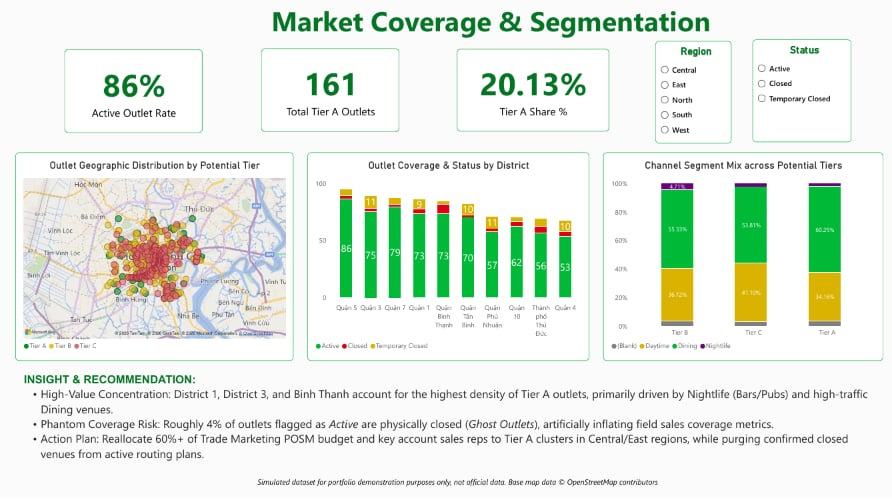

This screenshot's page, from the dashboard's own definition file:
{"tool":"powerbi","page":{"name":"Market Coverage & Segmentation","canvas":[1920,1080],"ordinal":1},"visuals":[{"type":"textbox","box":[551.1,16.7,999.7,85.9],"z":0},{"type":"cardVisual","fields":{"Data":["_Measures.Tier A Share %"]},"box":[977.5,117.5,327.5,177.5],"z":1000},{"type":"map","title":"Outlet Geographic Distribution by Potential Tier","fields":{"Series":["Outlets.Potential_Tier"],"X":["Outlets.Longitude"],"Y":["Outlets.Latitude"]},"box":[31.7,340,596.7,446.7],"z":2000},{"type":"columnChart","title":"Outlet Coverage & Status by District","fields":{"Category":["Dim_District.District_Standard"],"Series":["Outlets.Status"],"Y":["_Measures.1. Total Outlets"]},"box":[658.3,340,603.3,446.7],"z":3000},{"type":"textbox","box":[551.4,1035.7,1110,35],"z":4000},{"type":"textbox","box":[50,813.3,1830,200],"z":5000},{"type":"cardVisual","fields":{"Data":["_Measures.8.1 Total Tier A Outlets"]},"box":[559.3,116.7,295.9,178.9],"z":6000},{"type":"cardVisual","fields":{"Data":["_Measures.2. Active Outlet Rate"]},"box":[137,119.1,295.9,178.9],"z":7000},{"type":"hundredPercentStackedColumnChart","title":"Channel Segment Mix across Potential Tiers","fields":{"Category":["Outlets.Potential_Tier"],"Series":["Dim_Channel.Segment"],"Y":["_Measures.1. Total Outlets"]},"box":[1291.7,340,600,446.7],"z":8000},{"type":"listSlicer","fields":{"Values":["Dim_District.Region"]},"box":[1404.2,100.8,162.5,220],"z":9000},{"type":"listSlicer","fields":{"Values":["Outlets.Status"]},"box":[1611.7,98.3,212.5,220],"z":10000}]}

Visuals, with their boxes in screenshot pixels (x1, y1, x2, y2), scaled from the page's 1920x1080 canvas onto the 892x501 screenshot:
textbox: crop(256, 8, 720, 48)
cardVisual - _Measures.Tier A Share %: crop(454, 55, 606, 137)
"Outlet Geographic Distribution by Potential Tier" map: crop(15, 158, 292, 365)
"Outlet Coverage & Status by District" columnChart: crop(306, 158, 586, 365)
textbox: crop(256, 480, 772, 497)
textbox: crop(23, 377, 873, 470)
cardVisual - _Measures.8.1 Total Tier A Outlets: crop(260, 54, 397, 137)
cardVisual - _Measures.2. Active Outlet Rate: crop(64, 55, 201, 138)
"Channel Segment Mix across Potential Tiers" hundredPercentStackedColumnChart: crop(600, 158, 879, 365)
listSlicer - Dim_District.Region: crop(652, 47, 728, 149)
listSlicer - Outlets.Status: crop(749, 46, 847, 148)
